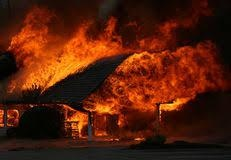fire: (13, 11, 231, 142)
